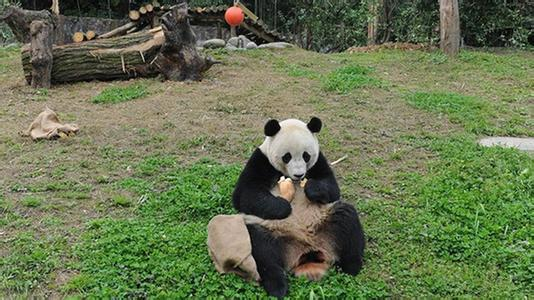panda: (212, 112, 367, 300)
